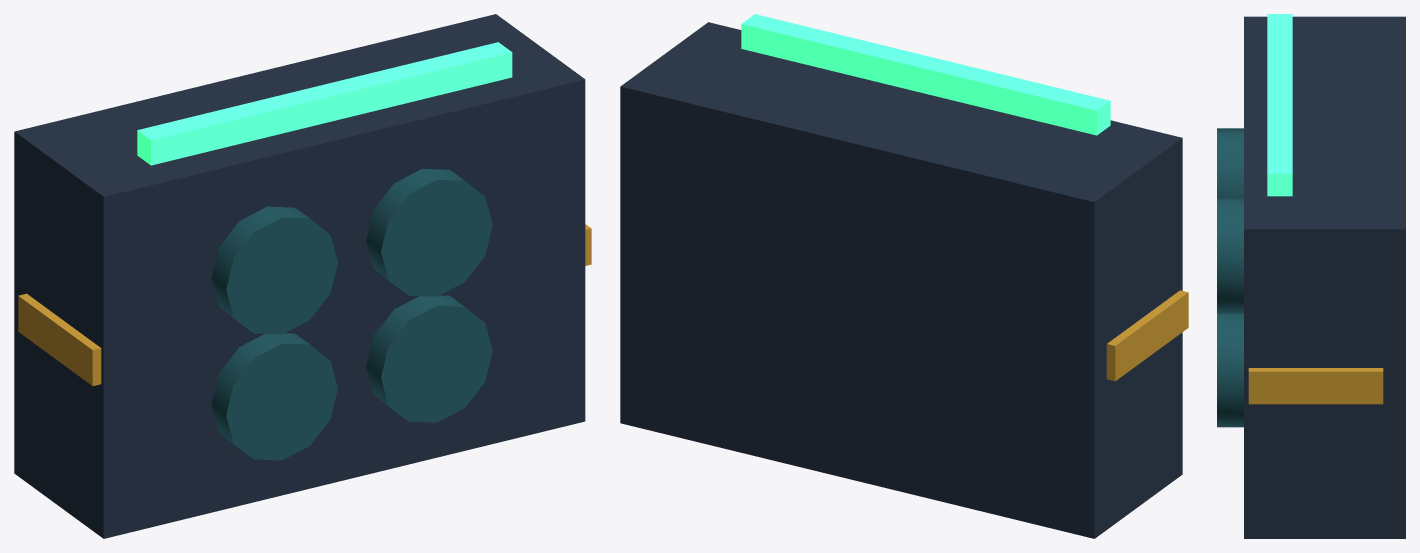
The model's file is bat-l.glb.
The picture shows the model from 3 angles, left to right: view 1: azimuth 30°, elevation 25°; view 2: azimuth 150°, elevation 25°; view 3: azimuth 270°, elevation 25°; orthographic projection. The views are drawn at different scales.
Parts seen in each view (by area): view 1: battery_tray_base, charge_led_strip, li_ion_cell_3, li_ion_cell_2, li_ion_cell_1, li_ion_cell_0, battery_thermal_strap; view 2: battery_tray_base, charge_led_strip, battery_thermal_strap; view 3: battery_tray_base, battery_thermal_strap, charge_led_strip, li_ion_cell_3, li_ion_cell_1, li_ion_cell_2.
Part boxes in pixels (x1,y1,x2,y2): battery_tray_base: [14, 14, 585, 538]; charge_led_strip: [137, 42, 512, 165]; li_ion_cell_3: [366, 168, 492, 296]; li_ion_cell_2: [211, 206, 337, 334]; li_ion_cell_1: [366, 295, 492, 422]; li_ion_cell_0: [211, 333, 337, 460]; battery_thermal_strap: [18, 224, 591, 385]; battery_tray_base: [620, 22, 1182, 538]; charge_led_strip: [741, 14, 1110, 135]; battery_thermal_strap: [1106, 290, 1188, 381]; battery_tray_base: [1244, 16, 1405, 538]; battery_thermal_strap: [1248, 368, 1383, 404]; charge_led_strip: [1267, 14, 1292, 196]; li_ion_cell_3: [1217, 196, 1243, 313]; li_ion_cell_1: [1217, 313, 1243, 427]; li_ion_cell_2: [1217, 128, 1243, 196].
Size of the model in its own units: 0.58 by 0.416 by 0.21.
